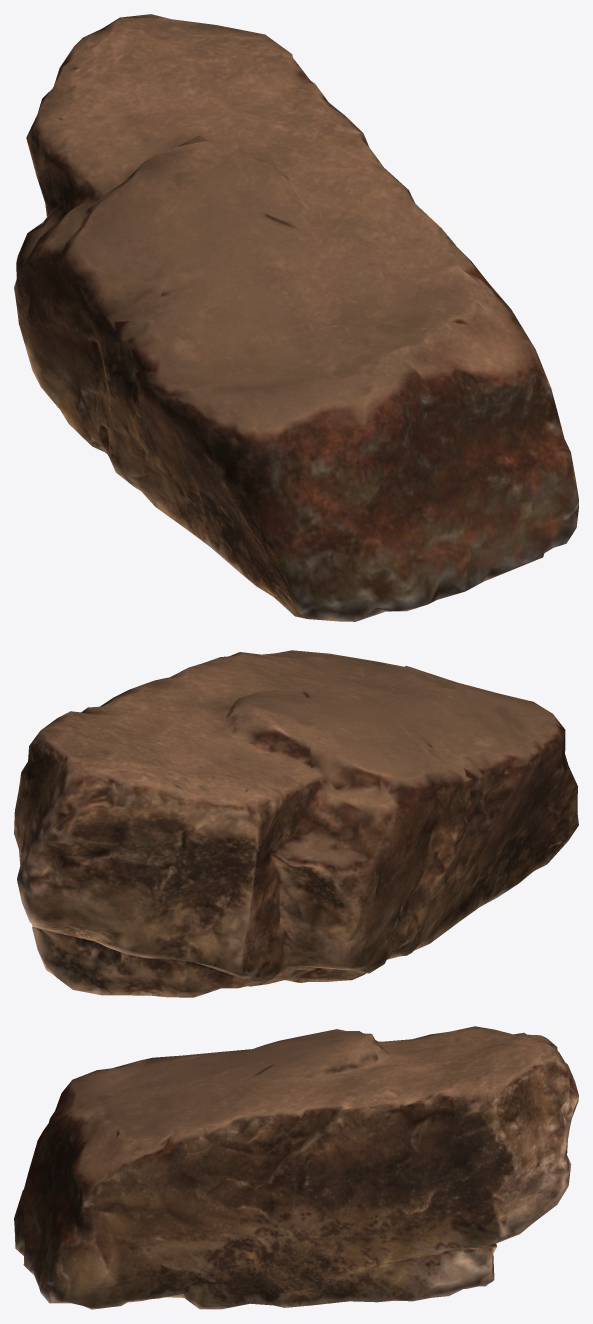
The model's file is mars-boulder-ph07.glb.
The picture shows the model from 3 angles, top to bottom: view 1: azimuth 30°, elevation 25°; view 2: azimuth 150°, elevation 25°; view 3: azimuth 270°, elevation 25°; orthographic projection. The views are drawn at different scales.
Parts seen in each view (by area): view 1: mars-boulder-ph07_LOD0; view 2: mars-boulder-ph07_LOD0; view 3: mars-boulder-ph07_LOD0.
Part boxes in pixels (box(x1,y1,x2,y2)): mars-boulder-ph07_LOD0: box(14, 14, 578, 621); mars-boulder-ph07_LOD0: box(14, 650, 578, 997); mars-boulder-ph07_LOD0: box(14, 1026, 578, 1309).
Size of what is drawn, in the model's own units: 0.9443 by 0.8066 by 1.8.
Materials: 1 (1 with a texture image).
